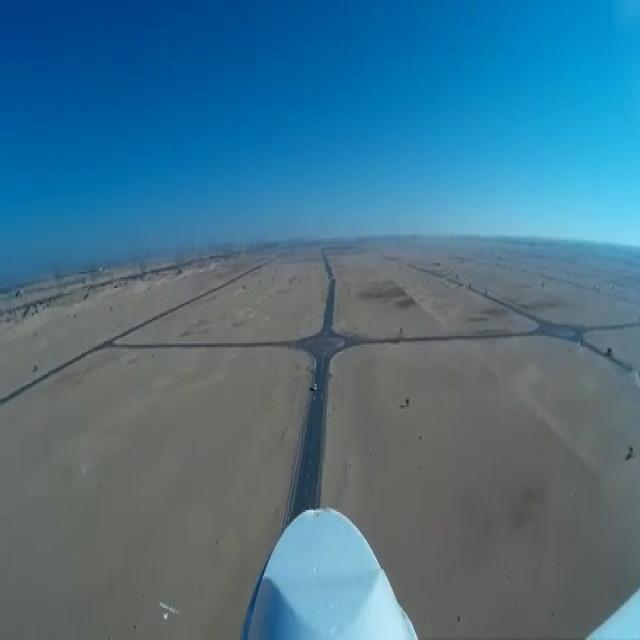iha: (158, 599, 182, 625)
